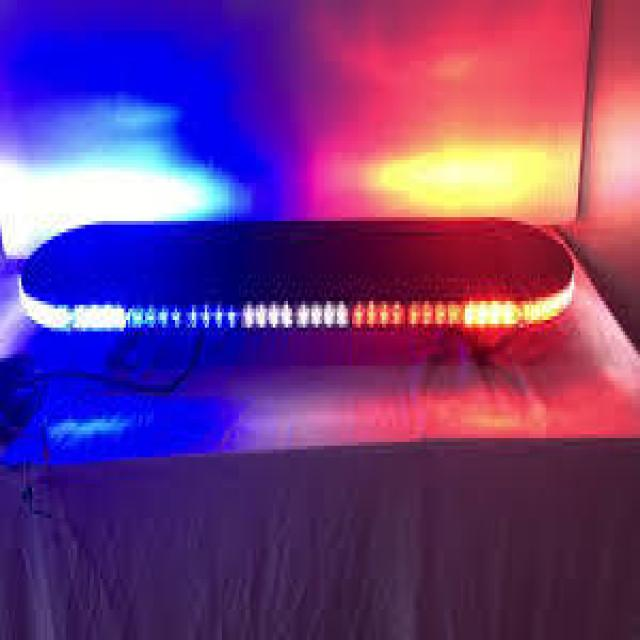ambulance: (0, 7, 597, 499)
